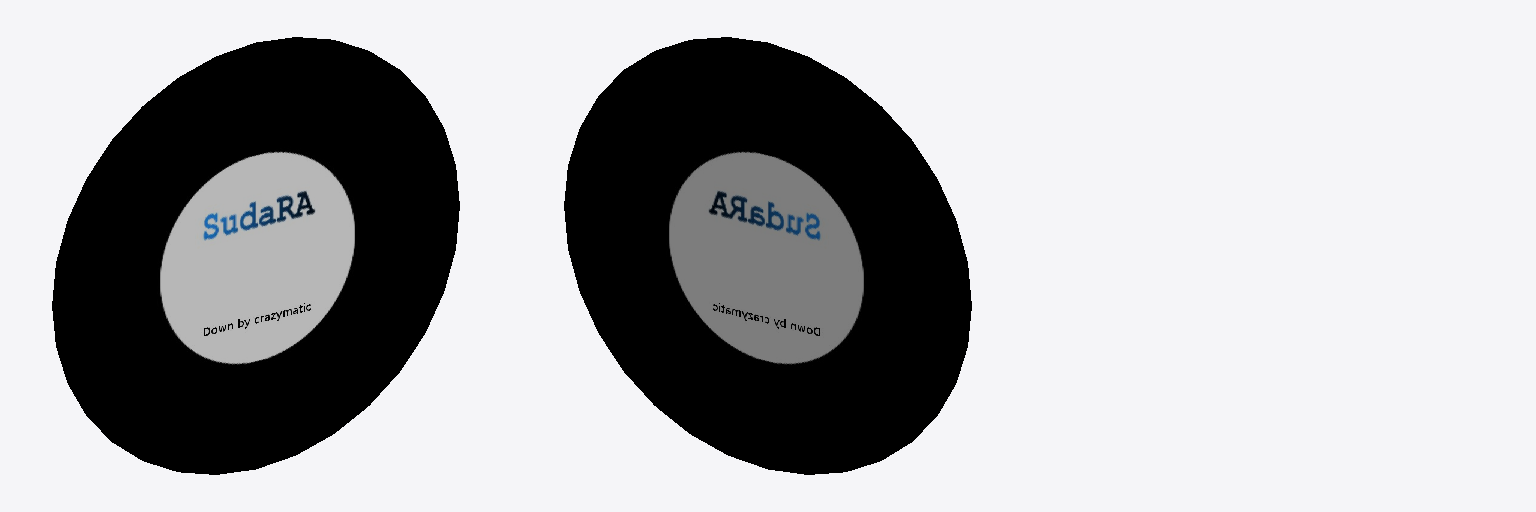
The picture shows the model from 3 angles: view 1: azimuth 30°, elevation 25°; view 2: azimuth 150°, elevation 25°; view 3: azimuth 270°, elevation 25°; orthographic projection.
Bounding box in the file's own units: 35.77 × 35.77 × 0.
Materials: 1 (1 with a texture image).